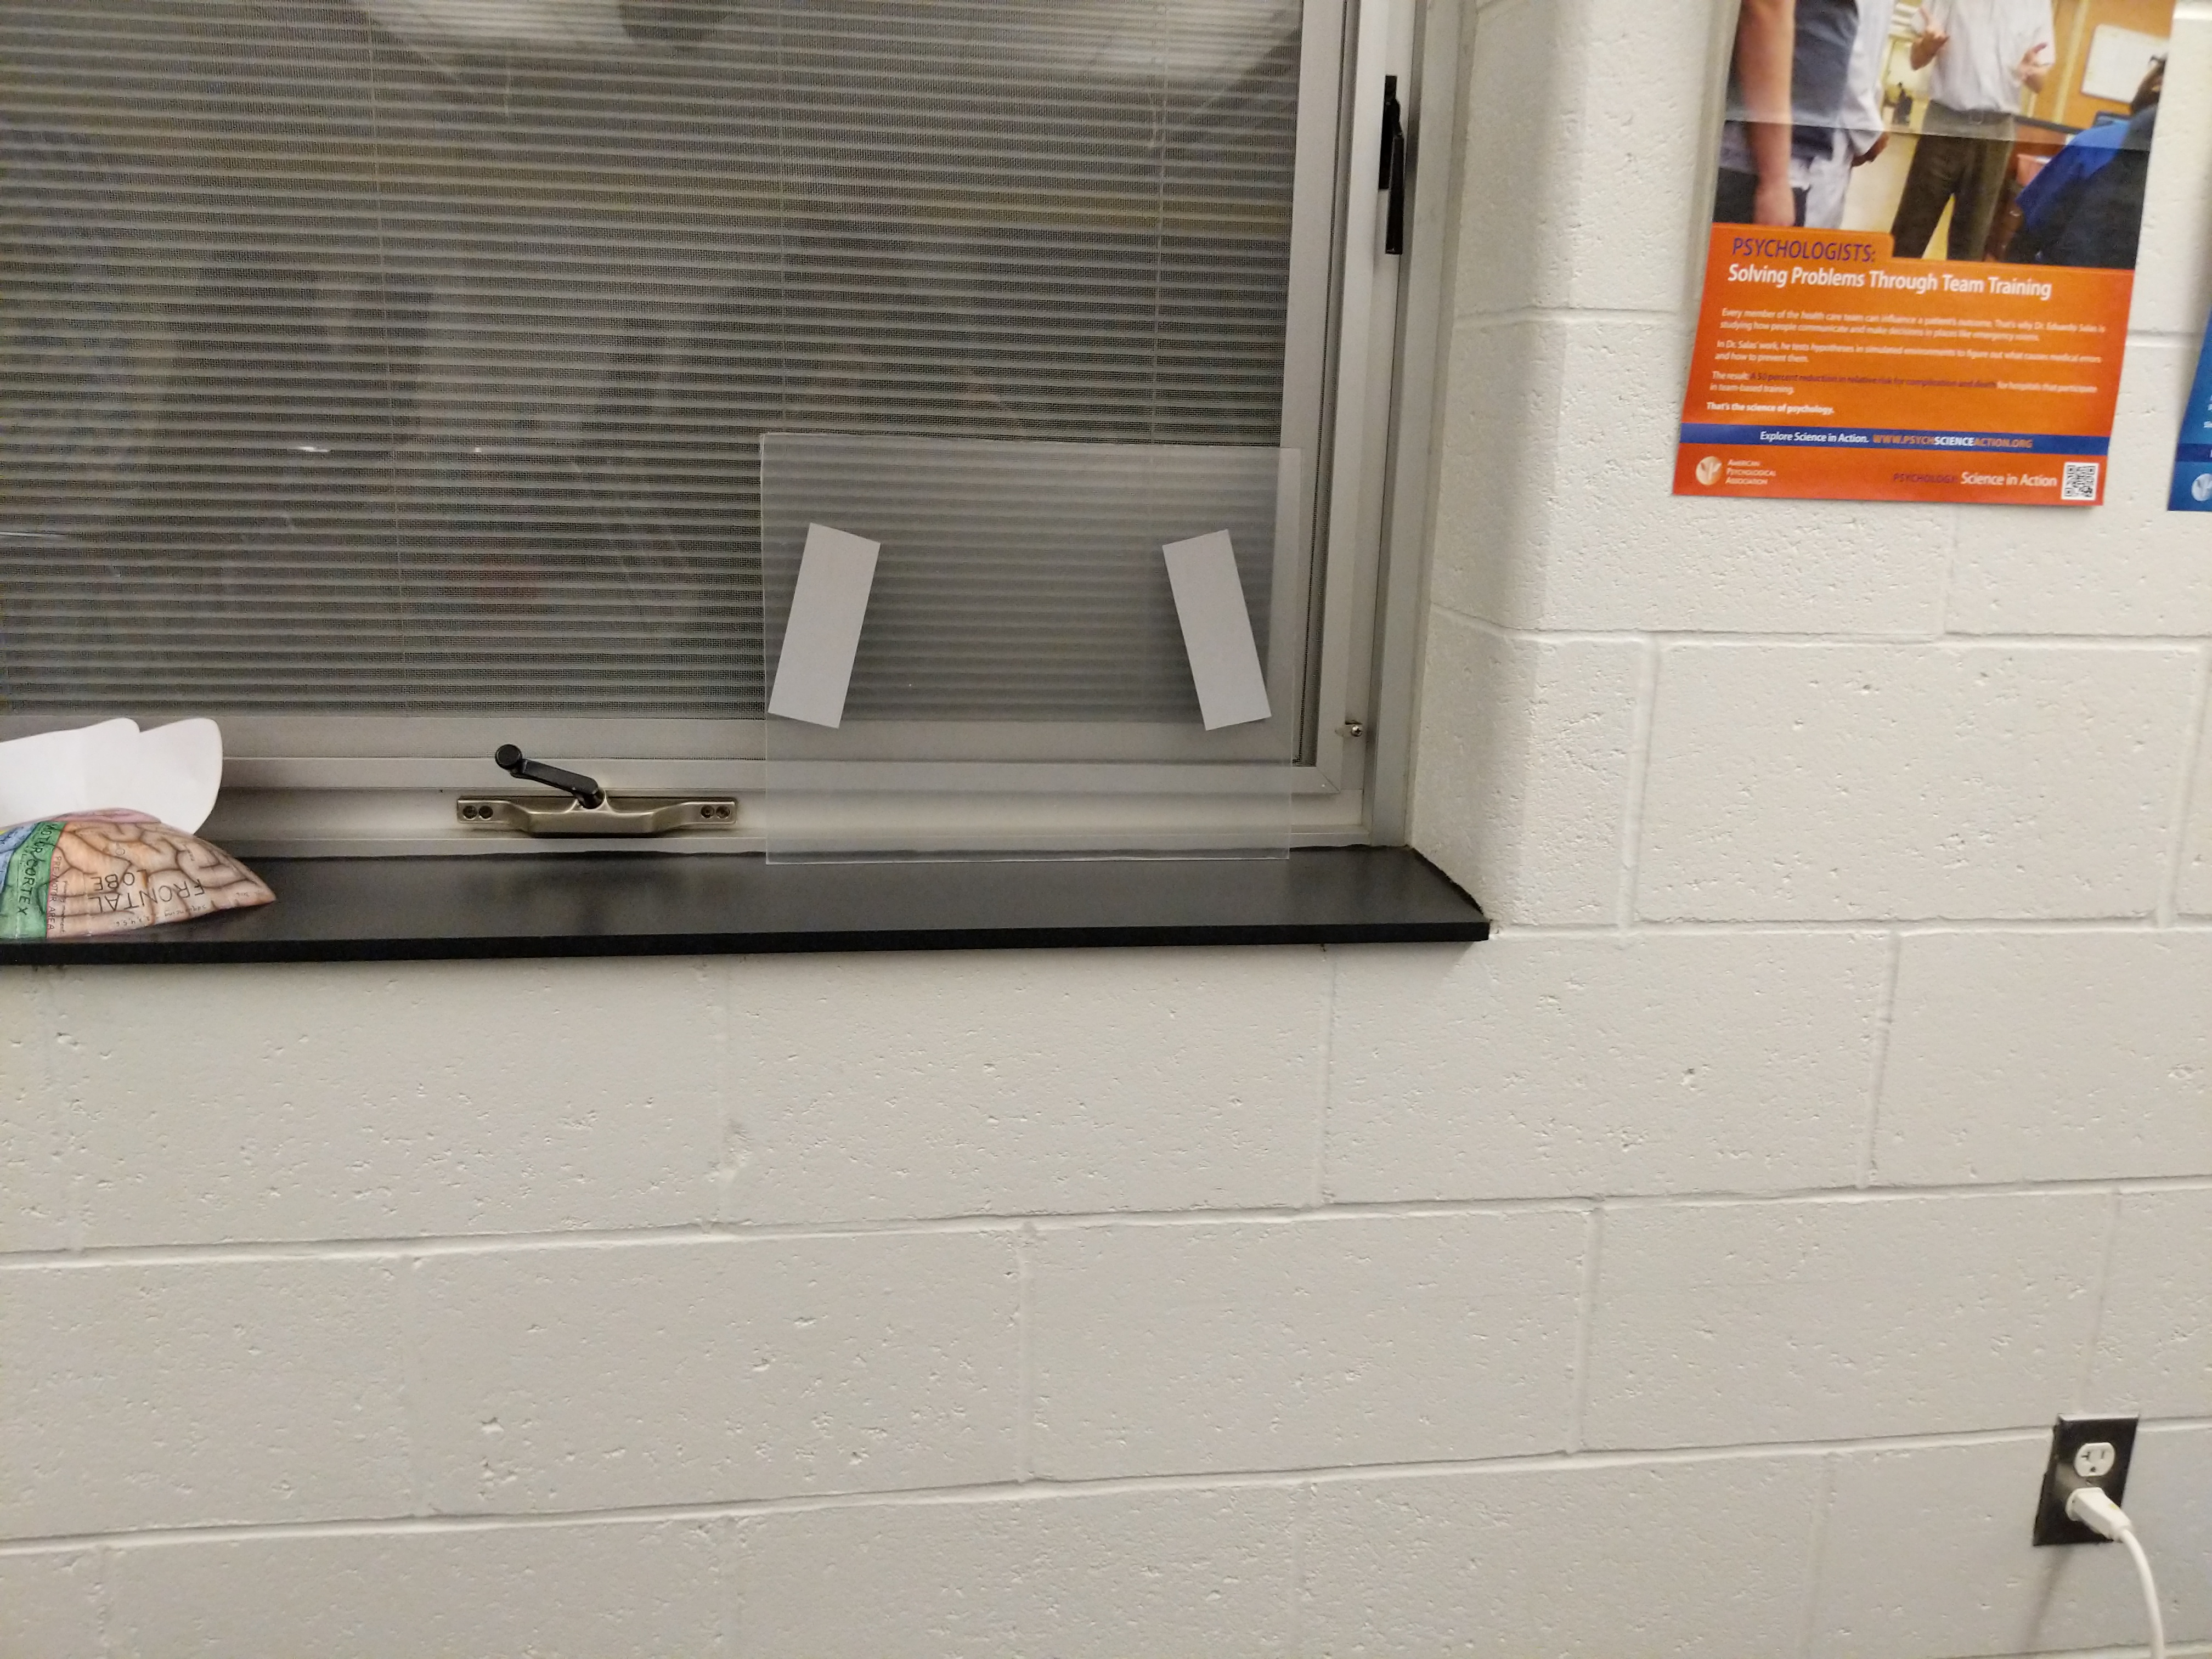vision_target: (766, 518, 1296, 727)
